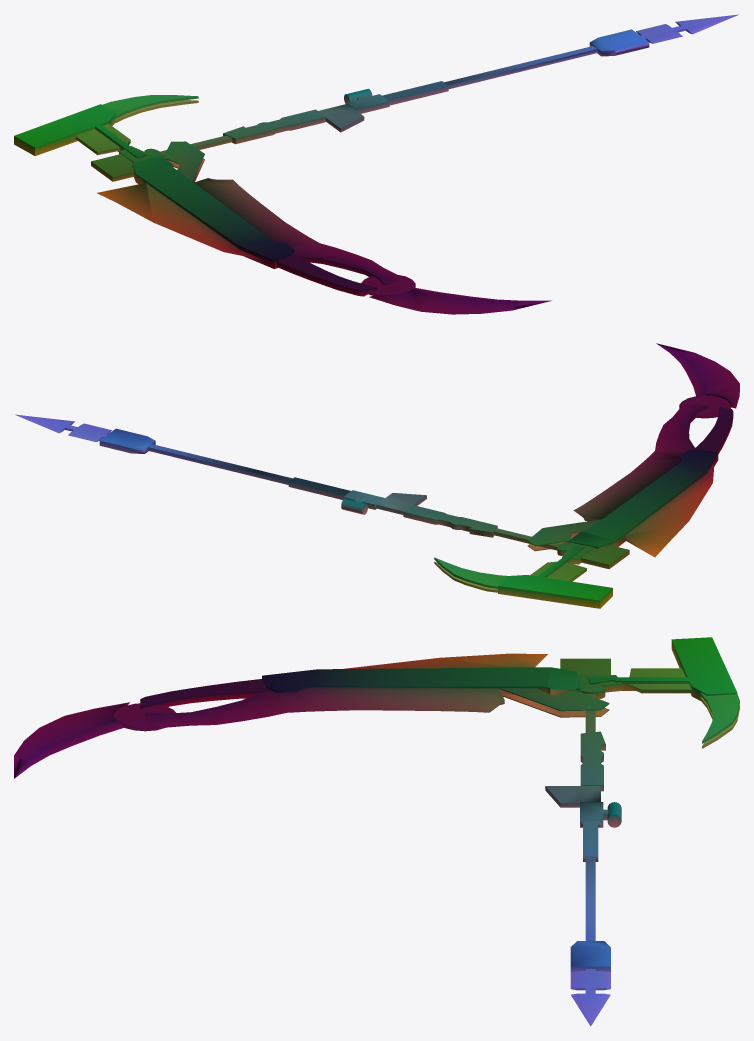
The model's file is crescent_rose.FBX.
The picture shows the model from 3 angles, top to bottom: view 1: azimuth 30°, elevation 25°; view 2: azimuth 150°, elevation 25°; view 3: azimuth 270°, elevation 25°; orthographic projection. The views are drawn at different scales.
Parts seen in each view (by area): view 1: Crescent Rose; view 2: Crescent Rose; view 3: Crescent Rose.
Boxes of the visible parts, x1,y1,x2,y2 form: Crescent Rose: (14,14,738,314); Crescent Rose: (15,343,739,608); Crescent Rose: (14,637,739,1026).
Bounding box in the file's own units: 44.88 × 0.7 × 35.87.
